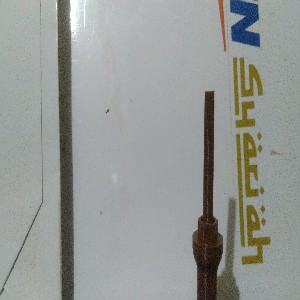obeng: (191, 90, 224, 300)
